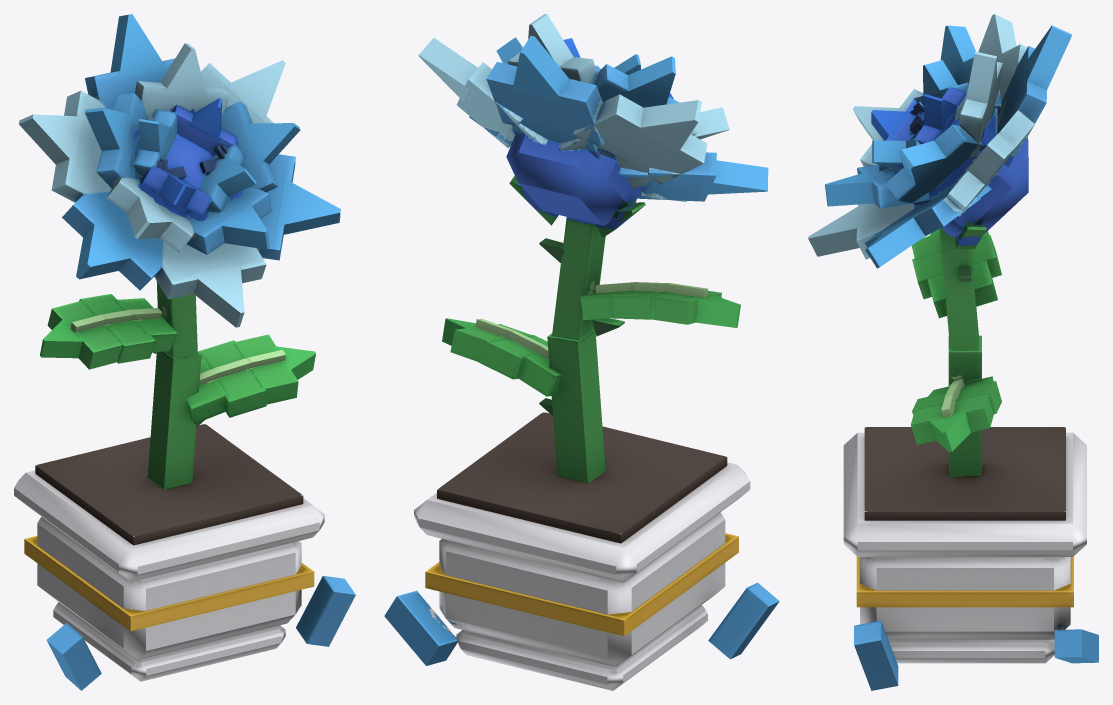
File: RoseCristal_Rig.fbx
The picture shows the model from 3 angles, left to right: view 1: azimuth 30°, elevation 25°; view 2: azimuth 150°, elevation 25°; view 3: azimuth 270°, elevation 25°; orthographic projection. The views are drawn at different scales.
Parts seen in each view (by area): view 1: Body, Head, LeafR, LeafL; view 2: Body, Head, LeafR, LeafL; view 3: Body, Head, LeafL, LeafR.
Part boxes in pixels (<box>): Body: <box>14,281,355,690</box>; Head: <box>19,14,340,327</box>; LeafR: <box>40,294,177,369</box>; LeafL: <box>186,334,315,423</box>; Body: <box>384,217,779,690</box>; Head: <box>418,14,768,237</box>; LeafR: <box>580,282,740,327</box>; LeafL: <box>442,318,561,396</box>; Body: <box>843,228,1098,690</box>; Head: <box>808,14,1071,268</box>; LeafL: <box>911,376,1001,452</box>; LeafR: <box>912,229,1001,318</box>.
Bounding box in the file's own units: 2.99 × 6 × 2.59.
Materials: 1 (1 with a texture image).
